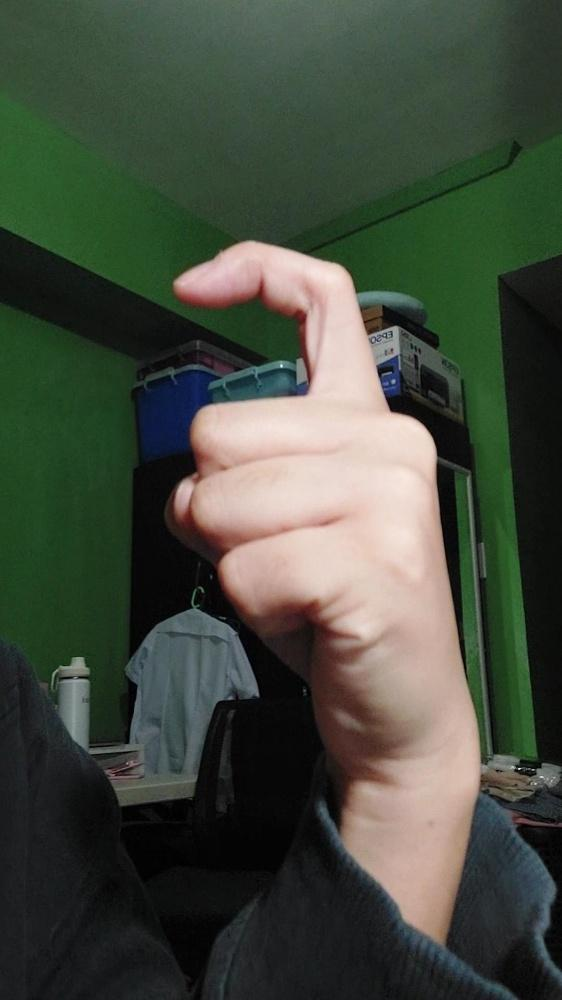x: (162, 238, 481, 775)
